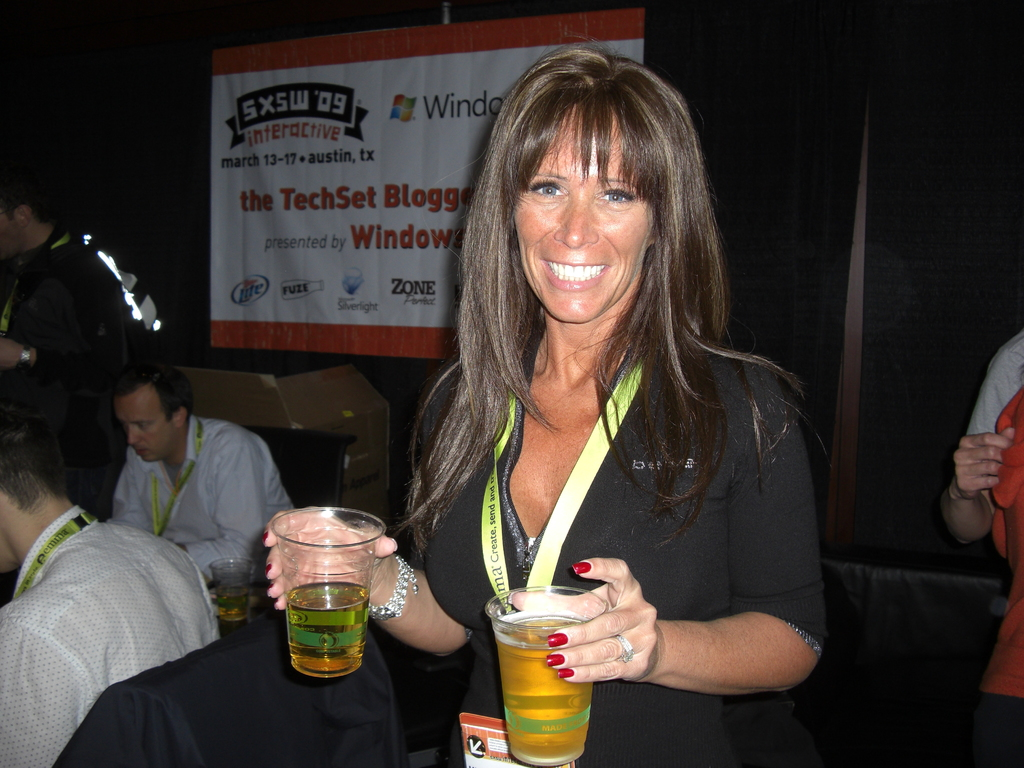Beer: (256, 497, 385, 689), (480, 578, 609, 764)
